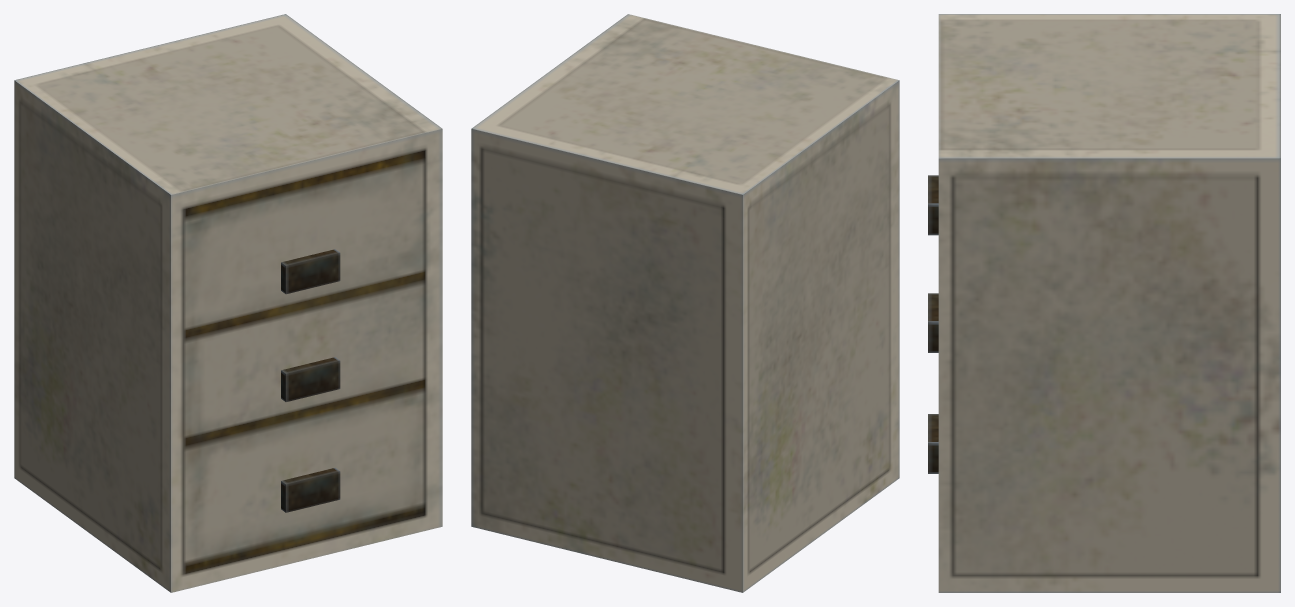
3 views of the same model, side by side, from view 1: azimuth 30°, elevation 25°; view 2: azimuth 150°, elevation 25°; view 3: azimuth 270°, elevation 25° (orthographic). The views are drawn at different scales.
Parts seen in each view (by area): view 1: file; view 2: file; view 3: file.
Boxes of the visible parts, <box> form: file: <box>14,14,442,592</box>; file: <box>471,14,899,592</box>; file: <box>928,14,1280,592</box>.
Size of the model in its own units: 50 by 70 by 51.54.
Materials: 1 (1 with a texture image).
